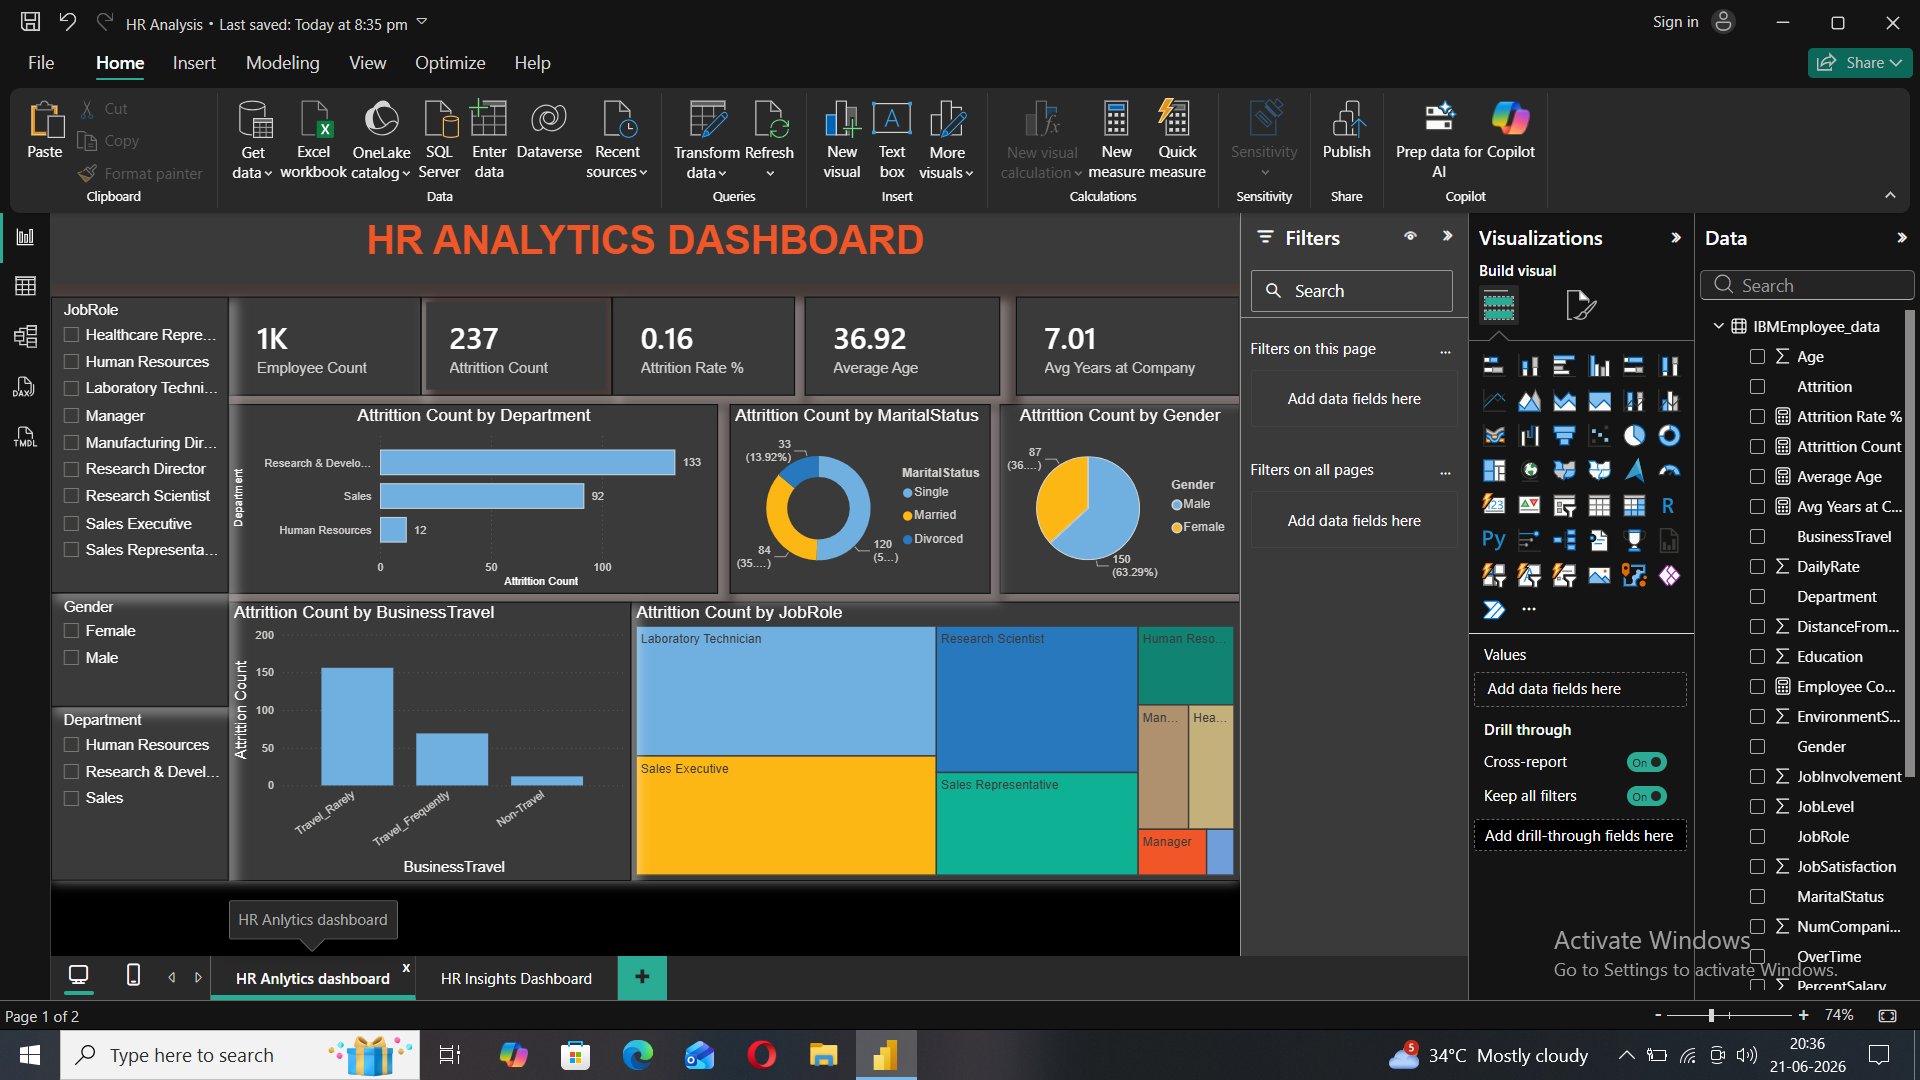

What the dashboard file says about the page in this screenshot:
{"tool":"powerbi","page":{"name":"HR Anlytics dashboard","canvas":[1280,720],"ordinal":0},"visuals":[{"type":"cardVisual","title":"Employee Count","fields":{"Data":["IBMEmployee_data.Employee Count"]},"box":[191.2,90.2,207.3,106.4],"z":0},{"type":"cardVisual","title":"Attrition Count","fields":{"Data":["IBMEmployee_data.Attrittion Count"]},"box":[398.5,90.2,206,106.4],"z":1000},{"type":"cardVisual","title":"Attrition Rate","fields":{"Data":["IBMEmployee_data.Attrition Rate %"]},"box":[604.5,90.2,196.6,106.4],"z":2000},{"type":"cardVisual","title":"Average Age","fields":{"Data":["IBMEmployee_data.Average Age"]},"box":[811.8,90.2,210,106.4],"z":3000},{"type":"textbox","box":[0,0,1280.3,77.1],"z":4000},{"type":"clusteredBarChart","fields":{"Category":["IBMEmployee_data.Department"],"Y":["IBMEmployee_data.Attrittion Count"]},"box":[191,205.3,527.5,203.9],"z":5000},{"type":"pieChart","fields":{"Category":["IBMEmployee_data.Gender"],"Y":["IBMEmployee_data.Attrittion Count"]},"box":[1022.2,205.3,258.1,203.9],"z":6000},{"type":"treemap","fields":{"Values":["IBMEmployee_data.Attrittion Count"],"Group":["IBMEmployee_data.JobRole"]},"box":[624.5,419.2,655.8,300.8],"z":7000},{"type":"columnChart","fields":{"Category":["IBMEmployee_data.BusinessTravel"],"Y":["IBMEmployee_data.Attrittion Count"]},"box":[191,419.2,433.4,300.8],"z":8000},{"type":"donutChart","fields":{"Category":["IBMEmployee_data.MaritalStatus"],"Y":["IBMEmployee_data.Attrittion Count"]},"box":[731.4,205.3,280.9,203.9],"z":9000},{"type":"slicer","fields":{"Values":["IBMEmployee_data.Department"]},"box":[0,531.8,191.2,187.1],"z":10000},{"type":"slicer","fields":{"Values":["IBMEmployee_data.Gender"]},"box":[0,409.3,191.2,122.5],"z":11000},{"type":"slicer","fields":{"Values":["IBMEmployee_data.JobRole"]},"box":[0,90.2,191.2,319.1],"z":12000},{"type":"cardVisual","title":"Avg Years at Company","fields":{"Data":["IBMEmployee_data.Avg Years at Company"]},"box":[1039.3,90.2,241,106.4],"z":13000}]}

Visuals, with their boxes on the page's 1280x720 design canvas (x1, y1, x2, y2). These are canvas units, not pixel positions in the 1920x1080 screenshot, which may show the page scaled, cropped or inside an application window:
"Employee Count" cardVisual: box=[191, 90, 398, 197]
"Attrition Count" cardVisual: box=[398, 90, 604, 197]
"Attrition Rate" cardVisual: box=[604, 90, 801, 197]
"Average Age" cardVisual: box=[812, 90, 1022, 197]
textbox: box=[0, 0, 1280, 77]
clusteredBarChart - IBMEmployee_data.Department x IBMEmployee_data.Attrittion Count: box=[191, 205, 718, 409]
pieChart - IBMEmployee_data.Gender x IBMEmployee_data.Attrittion Count: box=[1022, 205, 1280, 409]
treemap - IBMEmployee_data.Attrittion Count x IBMEmployee_data.JobRole: box=[624, 419, 1280, 720]
columnChart - IBMEmployee_data.BusinessTravel x IBMEmployee_data.Attrittion Count: box=[191, 419, 624, 720]
donutChart - IBMEmployee_data.MaritalStatus x IBMEmployee_data.Attrittion Count: box=[731, 205, 1012, 409]
slicer - IBMEmployee_data.Department: box=[0, 532, 191, 719]
slicer - IBMEmployee_data.Gender: box=[0, 409, 191, 532]
slicer - IBMEmployee_data.JobRole: box=[0, 90, 191, 409]
"Avg Years at Company" cardVisual: box=[1039, 90, 1280, 197]
